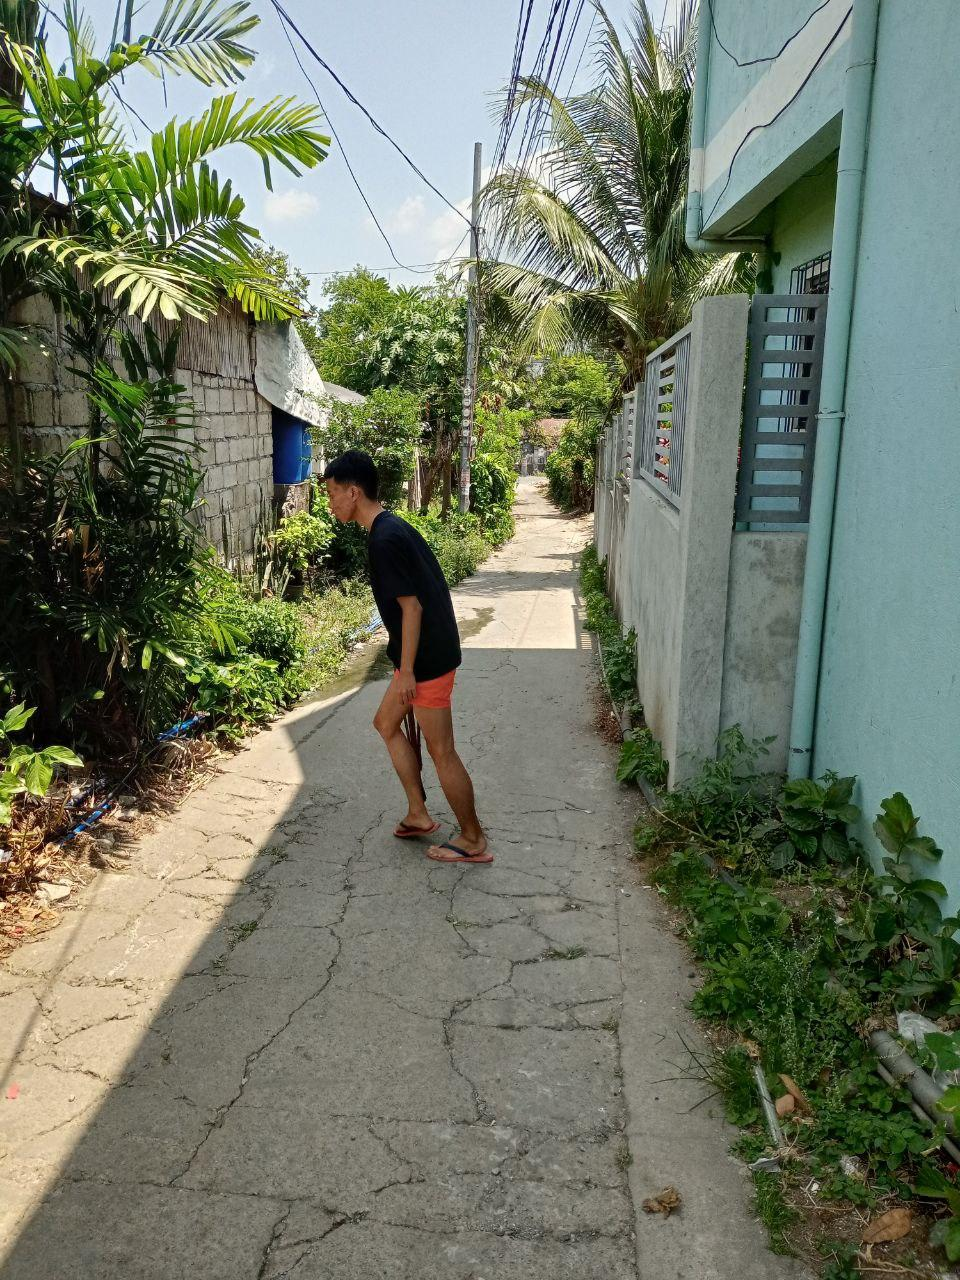crutches: (324, 452, 495, 866)
